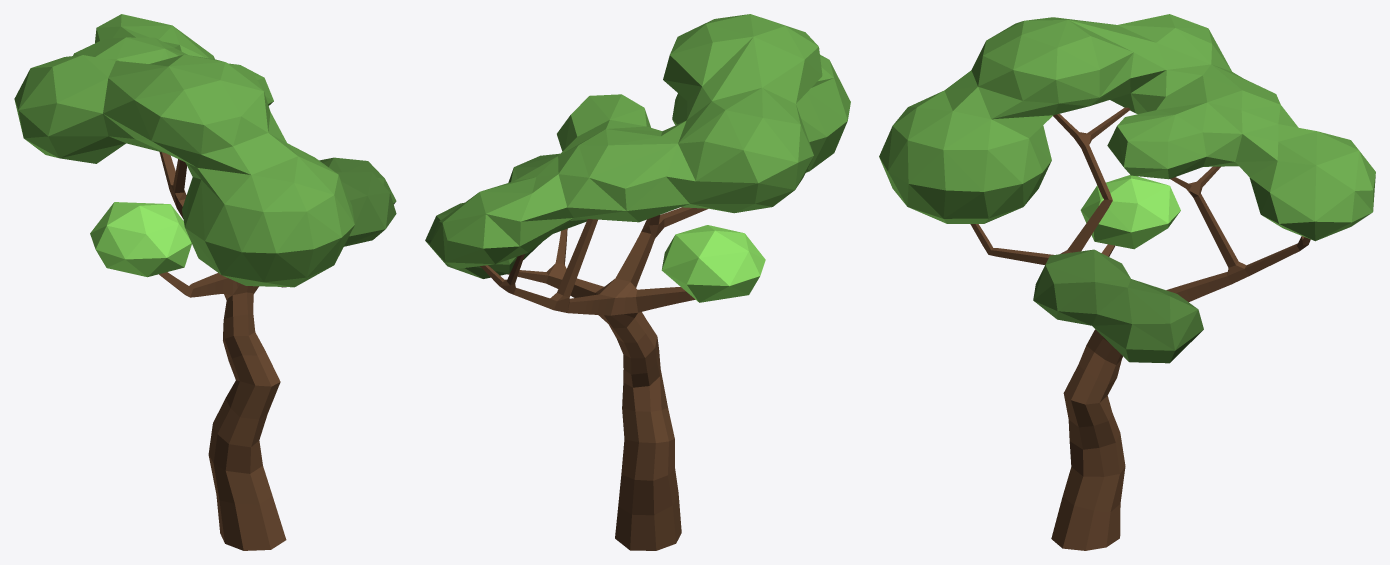
The model's file is tree11.fbx.
3 renders of one model, left to right at view 1: azimuth 30°, elevation 25°; view 2: azimuth 150°, elevation 25°; view 3: azimuth 270°, elevation 25°, orthographic. The views are drawn at different scales.
Visible parts, largest first — view 1: tree11_leaves, tree11_trunk; view 2: tree11_leaves, tree11_trunk; view 3: tree11_leaves, tree11_trunk.
Part boxes in pixels (x1=…): tree11_leaves: x1=14, y1=14, x2=396, y2=287; tree11_trunk: x1=159, y1=151, x2=286, y2=550; tree11_leaves: x1=425, y1=14, x2=850, y2=302; tree11_trunk: x1=480, y1=207, x2=708, y2=550; tree11_leaves: x1=879, y1=14, x2=1375, y2=363; tree11_trunk: x1=970, y1=107, x2=1310, y2=550.
Size of the model in its own units: 3.55 by 4.73 by 4.48.
